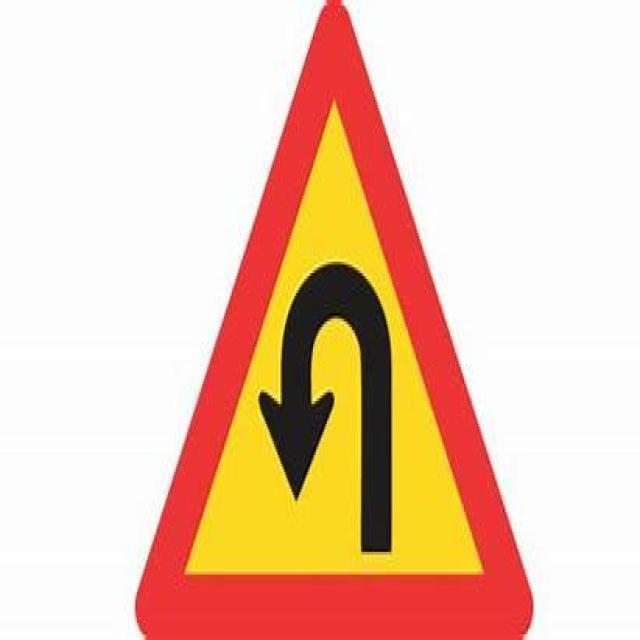LEFT_HAIR_PIN_BEND: (134, 0, 534, 640)
